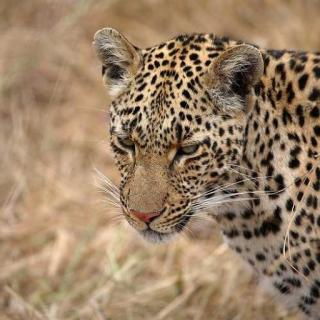Leopard: (84, 17, 320, 320)
